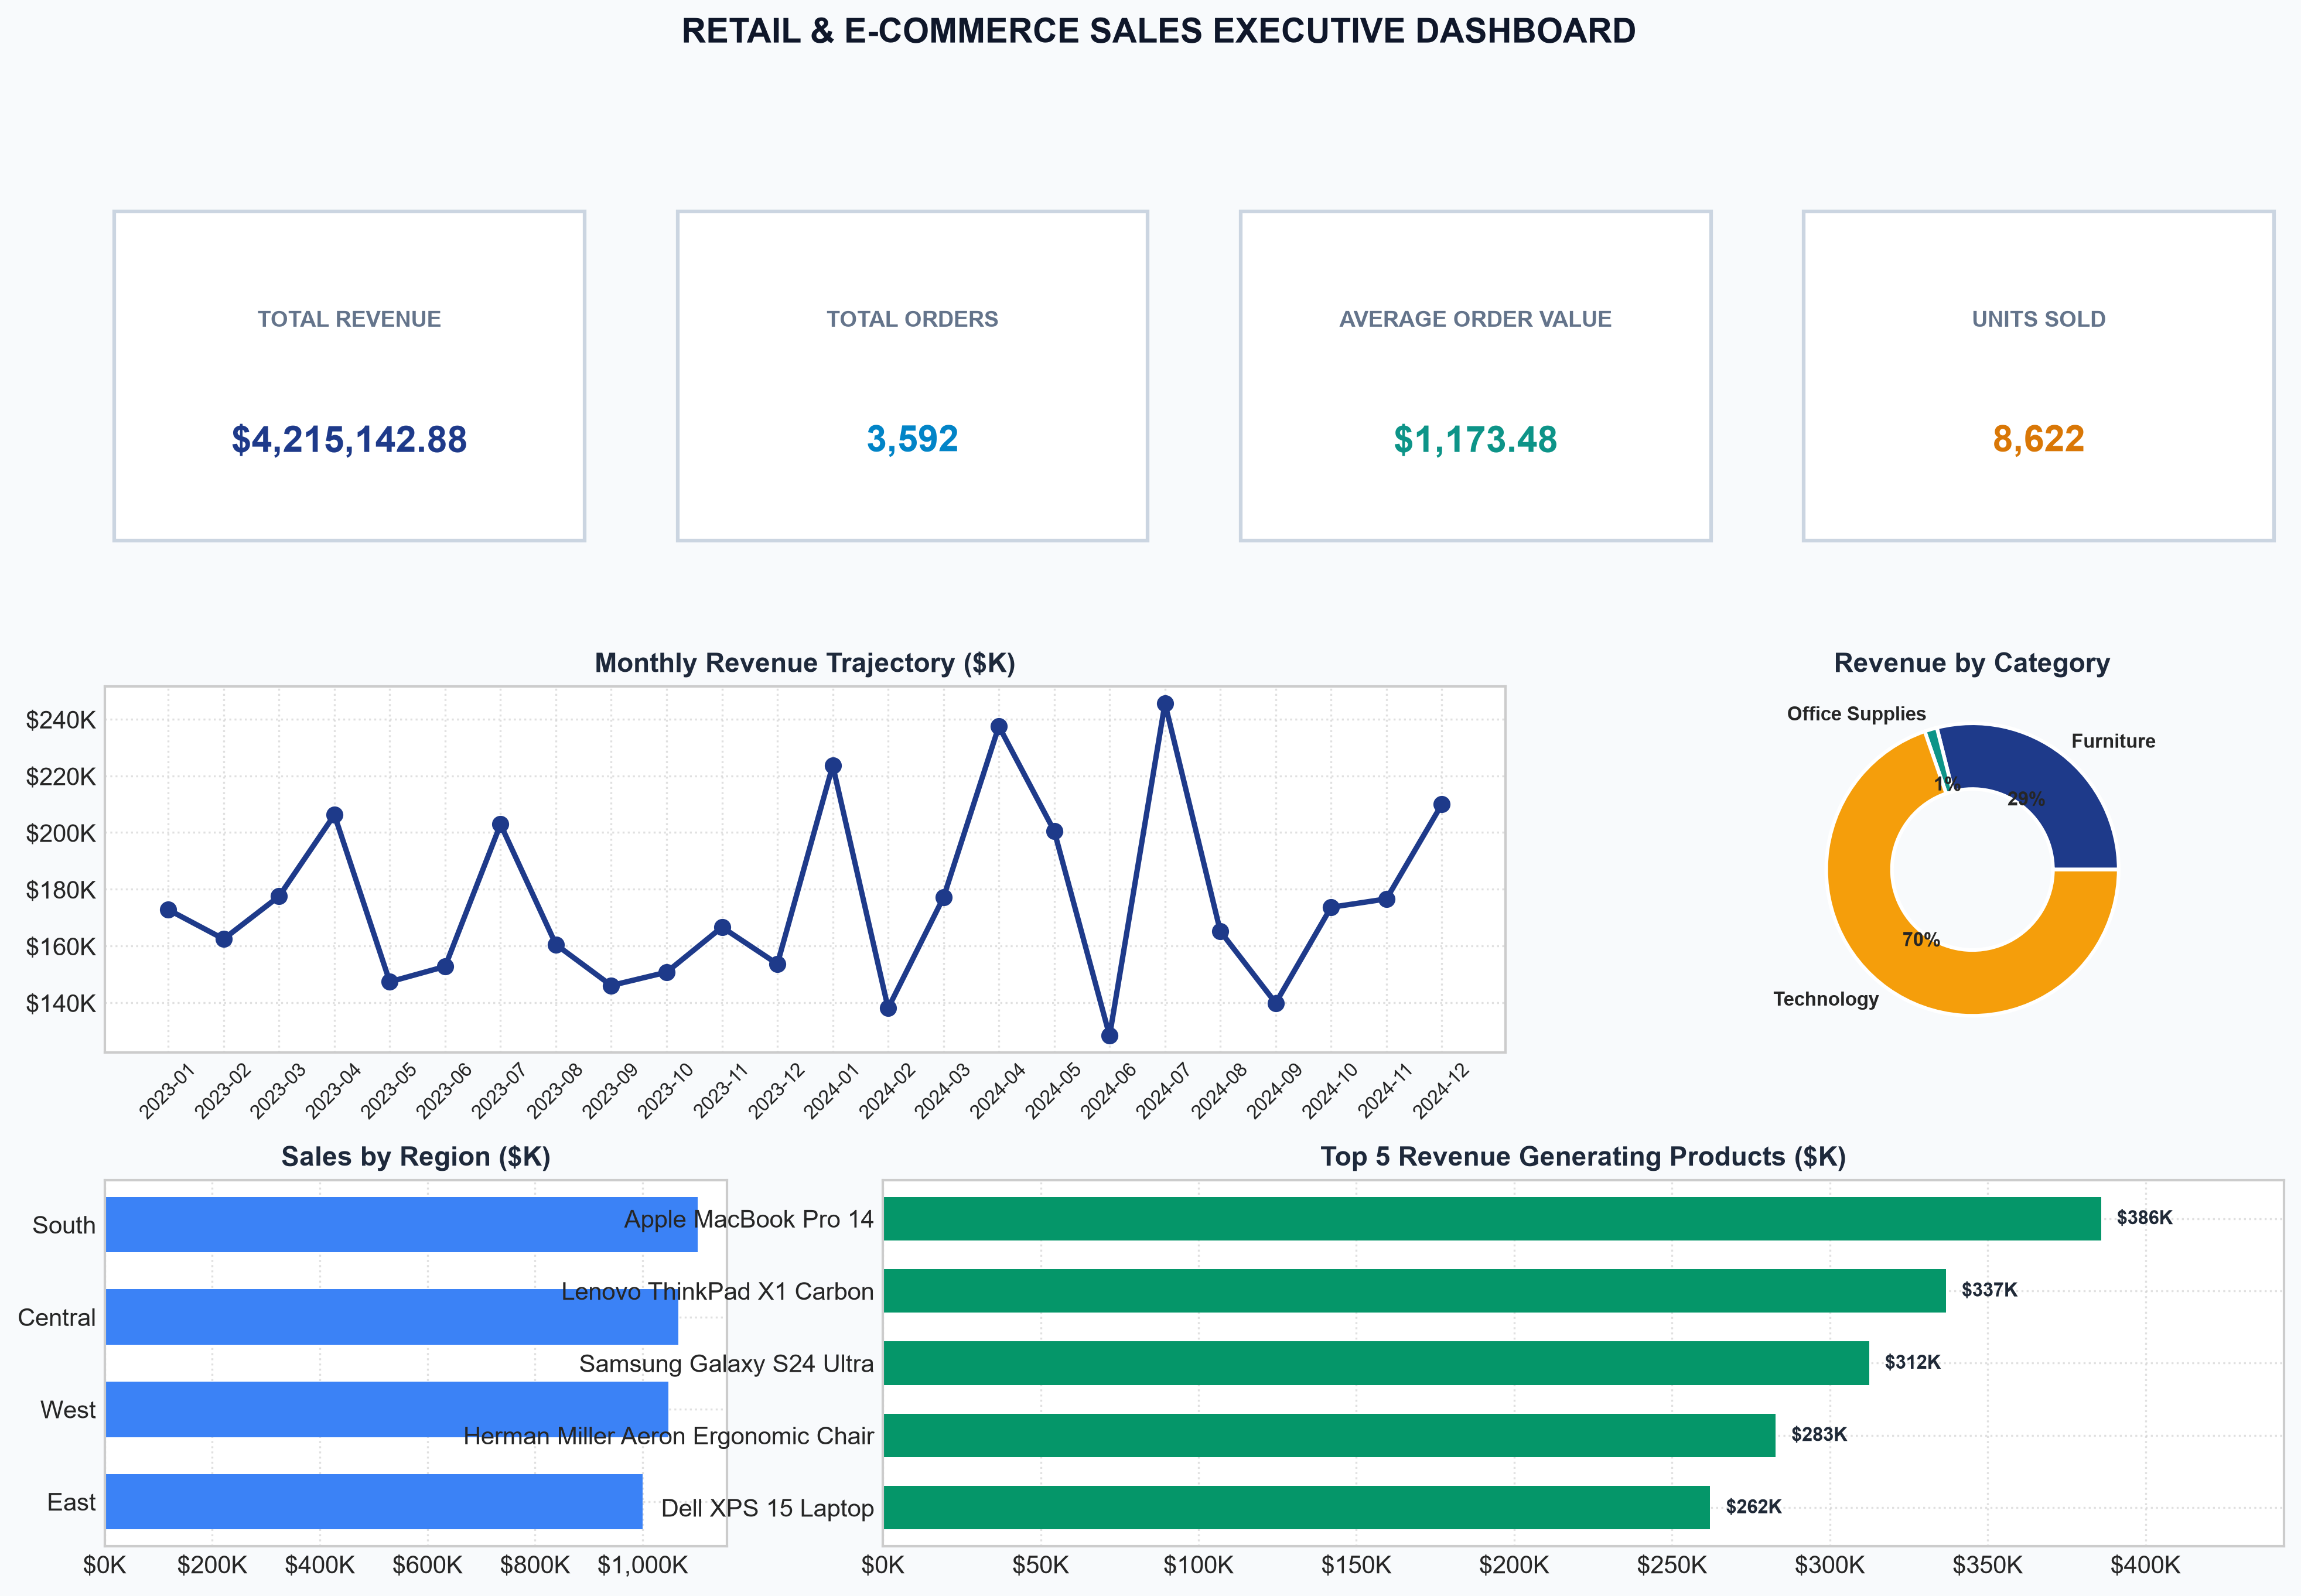

Layout of this report page (visuals, bound fields, positions):
{"tool":"powerbi","page":{"name":"Sales Executive Overview","canvas":[1920,1080],"ordinal":0},"visuals":[{"type":"textbox","box":[20,15,1880,70],"z":0},{"type":"slicer","fields":{"Values":["DIM_LOCATION.Region"]},"box":[1280,20,280,60],"z":1},{"type":"slicer","fields":{"Values":["DIM_PRODUCT.Category"]},"box":[1580,20,320,60],"z":2},{"type":"card","fields":{"Fields":["FACT_SALES.Total_Sales"]},"box":[20,100,360,130],"z":3},{"type":"card","fields":{"Fields":["FACT_SALES.Total_Orders"]},"box":[400,100,360,130],"z":4},{"type":"card","fields":{"Fields":["FACT_SALES.Total_Units_Sold"]},"box":[780,100,360,130],"z":5},{"type":"card","fields":{"Fields":["FACT_SALES.Average_Order_Value"]},"box":[1160,100,360,130],"z":6},{"type":"card","fields":{"Fields":["FACT_SALES.Total_Customers"]},"box":[1540,100,360,130],"z":7},{"type":"lineChart","fields":{"Category":["DIM_DATE.Year_Month"],"Y":["FACT_SALES.Total_Sales"],"Y2":["FACT_SALES.Total_Orders"]},"box":[20,250,1240,410],"z":8},{"type":"pieChart","fields":{"Category":["DIM_PRODUCT.Category"],"Y":["FACT_SALES.Total_Sales"]},"box":[1280,250,620,410],"z":9},{"type":"barChart","fields":{"Category":["DIM_PRODUCT.Product_Name"],"Y":["FACT_SALES.Total_Sales"]},"box":[20,680,1100,380],"z":10},{"type":"columnChart","fields":{"Category":["DIM_LOCATION.Region"],"Series":["DIM_PRODUCT.Category"],"Y":["FACT_SALES.Total_Sales"]},"box":[1140,680,760,380],"z":11}]}

Visuals, with their boxes on the page's 1920x1080 design canvas (x1, y1, x2, y2). These are canvas units, not pixel positions in the 2301x1596 screenshot, which may show the page scaled, cropped or inside an application window:
textbox: (x1=20, y1=15, x2=1900, y2=85)
slicer - DIM_LOCATION.Region: (x1=1280, y1=20, x2=1560, y2=80)
slicer - DIM_PRODUCT.Category: (x1=1580, y1=20, x2=1900, y2=80)
card - FACT_SALES.Total_Sales: (x1=20, y1=100, x2=380, y2=230)
card - FACT_SALES.Total_Orders: (x1=400, y1=100, x2=760, y2=230)
card - FACT_SALES.Total_Units_Sold: (x1=780, y1=100, x2=1140, y2=230)
card - FACT_SALES.Average_Order_Value: (x1=1160, y1=100, x2=1520, y2=230)
card - FACT_SALES.Total_Customers: (x1=1540, y1=100, x2=1900, y2=230)
lineChart - DIM_DATE.Year_Month x FACT_SALES.Total_Sales: (x1=20, y1=250, x2=1260, y2=660)
pieChart - DIM_PRODUCT.Category x FACT_SALES.Total_Sales: (x1=1280, y1=250, x2=1900, y2=660)
barChart - DIM_PRODUCT.Product_Name x FACT_SALES.Total_Sales: (x1=20, y1=680, x2=1120, y2=1060)
columnChart - DIM_LOCATION.Region x DIM_PRODUCT.Category: (x1=1140, y1=680, x2=1900, y2=1060)
